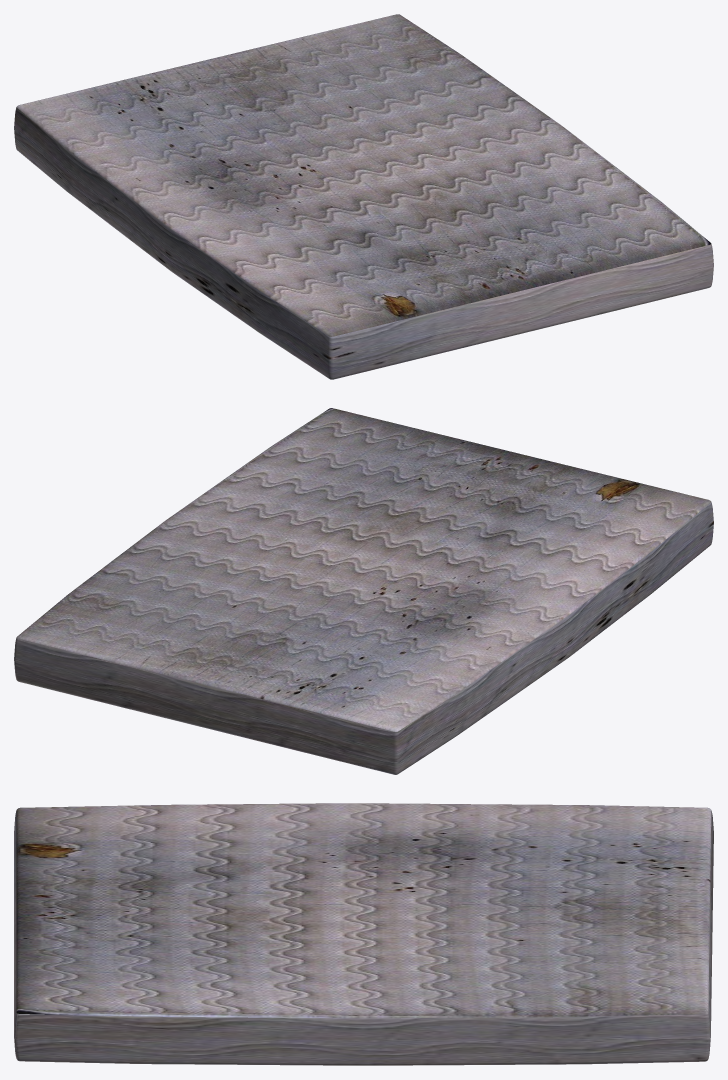
The model's file is Matress.fbx.
3 views of the same model, one above another, from view 1: azimuth 30°, elevation 25°; view 2: azimuth 150°, elevation 25°; view 3: azimuth 270°, elevation 25° (orthographic). The views are drawn at different scales.
Parts seen in each view (by area): view 1: Cube; view 2: Cube; view 3: Cube.
Part boxes in pixels (<box>): Cube: <box>14,14,713,379</box>; Cube: <box>14,408,713,774</box>; Cube: <box>14,803,713,1065</box>.
Bounding box in the file's own units: 147 × 16 × 201.
